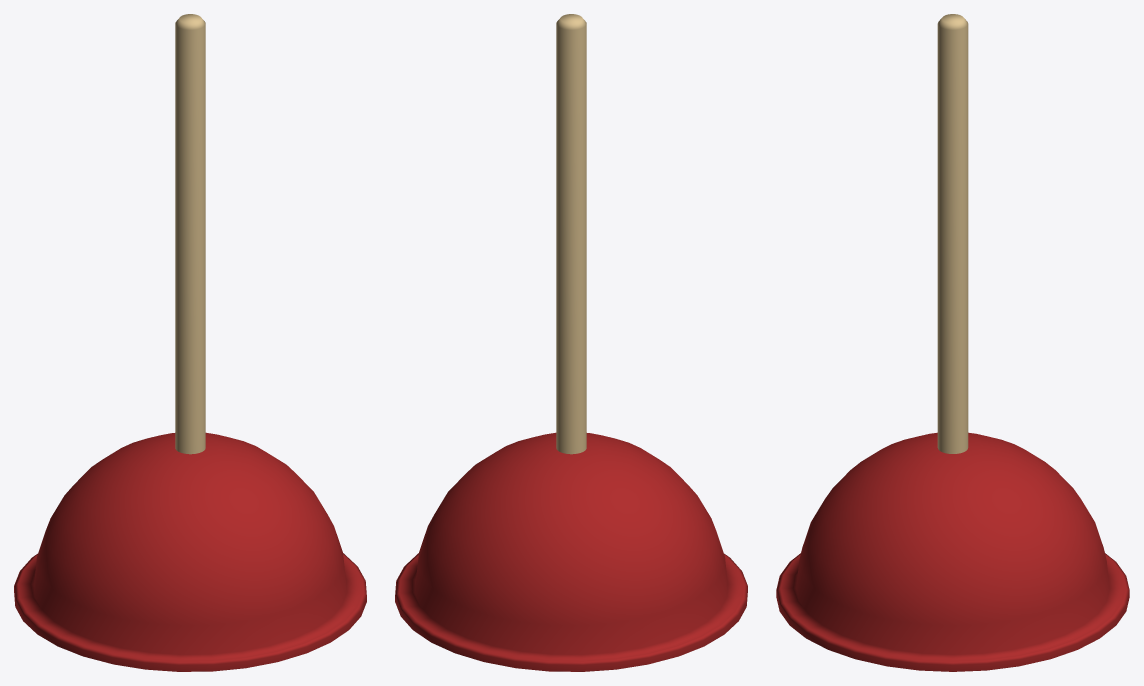
Rendered from pieza1Nave.fbx.
3 renders of one model, left to right at view 1: azimuth 30°, elevation 25°; view 2: azimuth 150°, elevation 25°; view 3: azimuth 270°, elevation 25°, orthographic.
Visible parts, largest first — view 1: Cylinder; view 2: Cylinder; view 3: Cylinder.
Boxes of the visible parts, bbox=[...] form: Cylinder: bbox=[14, 14, 366, 671]; Cylinder: bbox=[395, 14, 747, 671]; Cylinder: bbox=[776, 14, 1129, 671].
Size of the model in its own units: 78.06 by 141 by 78.06.
